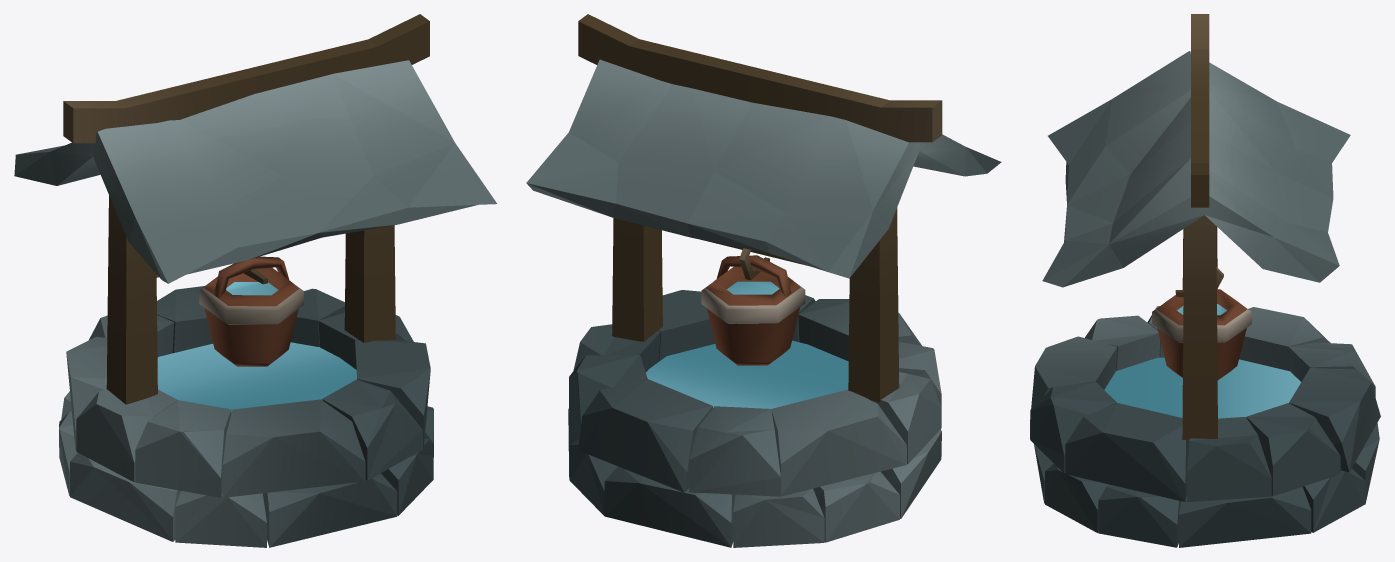
The model's file is Well.fbx.
The picture shows the model from 3 angles, left to right: view 1: azimuth 30°, elevation 25°; view 2: azimuth 150°, elevation 25°; view 3: azimuth 270°, elevation 25°; orthographic projection. The views are drawn at different scales.
Parts seen in each view (by area): view 1: Well_Roof, Well_Wall, Well_Support, Well_Water, Well_Bucket_Full; view 2: Well_Roof, Well_Wall, Well_Support, Well_Water, Well_Bucket_Full; view 3: Well_Wall, Well_Roof, Well_Support, Well_Water, Well_Bucket_Full.
Boxes of the visible parts, x1,y1,x2,y2 form: Well_Roof: (14,14,497,283); Well_Wall: (59,286,433,547); Well_Support: (106,195,395,404); Well_Water: (157,342,356,413); Well_Bucket_Full: (199,256,303,366); Well_Roof: (526,14,1001,278); Well_Wall: (568,290,941,547); Well_Support: (612,207,899,402); Well_Water: (646,340,848,408); Well_Bucket_Full: (701,255,805,365); Well_Wall: (1030,306,1380,547); Well_Roof: (1042,14,1350,287); Well_Support: (1175,215,1223,439); Well_Water: (1104,357,1301,418); Well_Bucket_Full: (1152,289,1251,379).
Size of the model in its own units: 2.29 by 2.51 by 2.11.
Materials: 1 (1 with a texture image).
